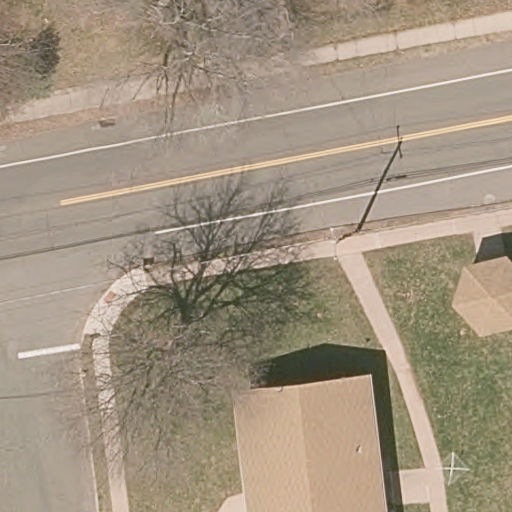DT: (327, 225, 358, 261)
